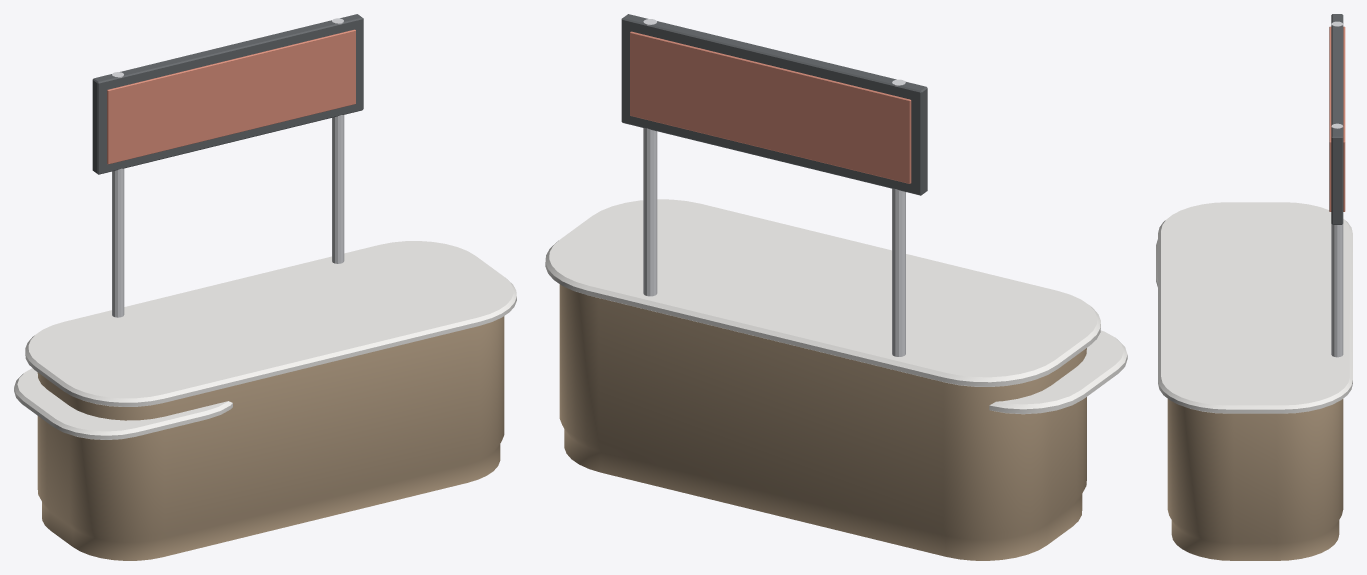
Rendered from SM_Retail_25379_InfoDesk.fbx.
The picture shows the model from 3 angles, left to right: view 1: azimuth 30°, elevation 25°; view 2: azimuth 150°, elevation 25°; view 3: azimuth 270°, elevation 25°; orthographic projection. The views are drawn at different scales.
Parts seen in each view (by area): view 1: concourse-info-desk_0, concourse-info-desk_2, concourse-info-desk_4, concourse-info-desk_3, concourse-info-desk_1; view 2: concourse-info-desk_0, concourse-info-desk_2, concourse-info-desk_4, concourse-info-desk_3, concourse-info-desk_1; view 3: concourse-info-desk_2, concourse-info-desk_0, concourse-info-desk_3, concourse-info-desk_1, concourse-info-desk_4.
Part boxes in pixels (bbox=[...]): concourse-info-desk_0: bbox=[37, 316, 504, 560]; concourse-info-desk_2: bbox=[14, 241, 516, 439]; concourse-info-desk_4: bbox=[107, 29, 355, 164]; concourse-info-desk_3: bbox=[92, 14, 363, 174]; concourse-info-desk_1: bbox=[112, 18, 344, 317]; concourse-info-desk_0: bbox=[559, 284, 1086, 560]; concourse-info-desk_2: bbox=[545, 199, 1127, 414]; concourse-info-desk_4: bbox=[630, 31, 911, 183]; concourse-info-desk_3: bbox=[621, 14, 927, 195]; concourse-info-desk_1: bbox=[643, 19, 905, 356]; concourse-info-desk_2: bbox=[1156, 202, 1352, 413]; concourse-info-desk_0: bbox=[1167, 399, 1343, 560]; concourse-info-desk_3: bbox=[1331, 14, 1343, 224]; concourse-info-desk_1: bbox=[1331, 21, 1343, 357]; concourse-info-desk_4: bbox=[1329, 26, 1345, 211].
Size of the model in its own units: 260 by 101 by 220.
